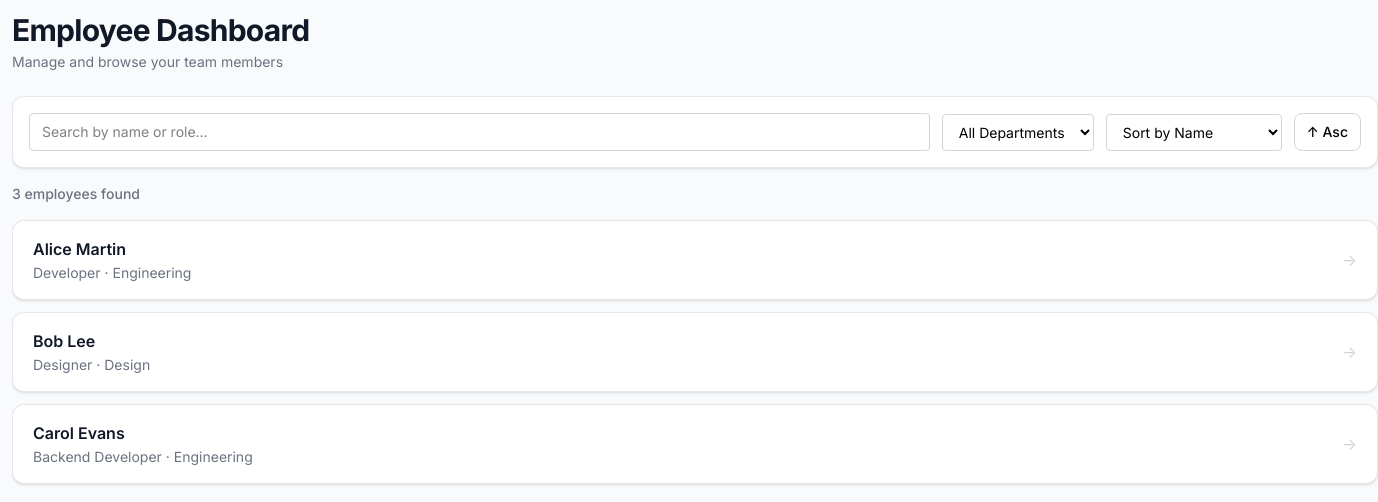
Test case: EmployeesPage › filters by department when a department is selected
Select "Design" in the dropdown showing "All Departments". click: (1018, 132)
box: [942,114,1094,150]
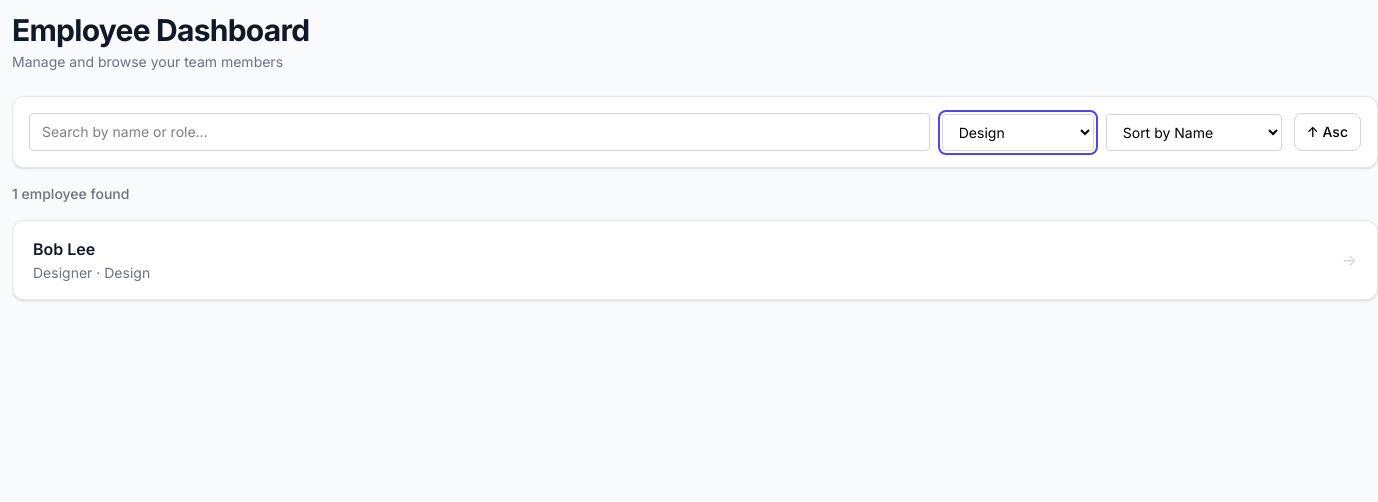
Expected: the link "Bob Lee Designer · Design →" is shown, [12,220,1377,300]
Now the text "1 employee found" is shown, box [12,184,129,204]
Now the link "Alice Martin" is gone
